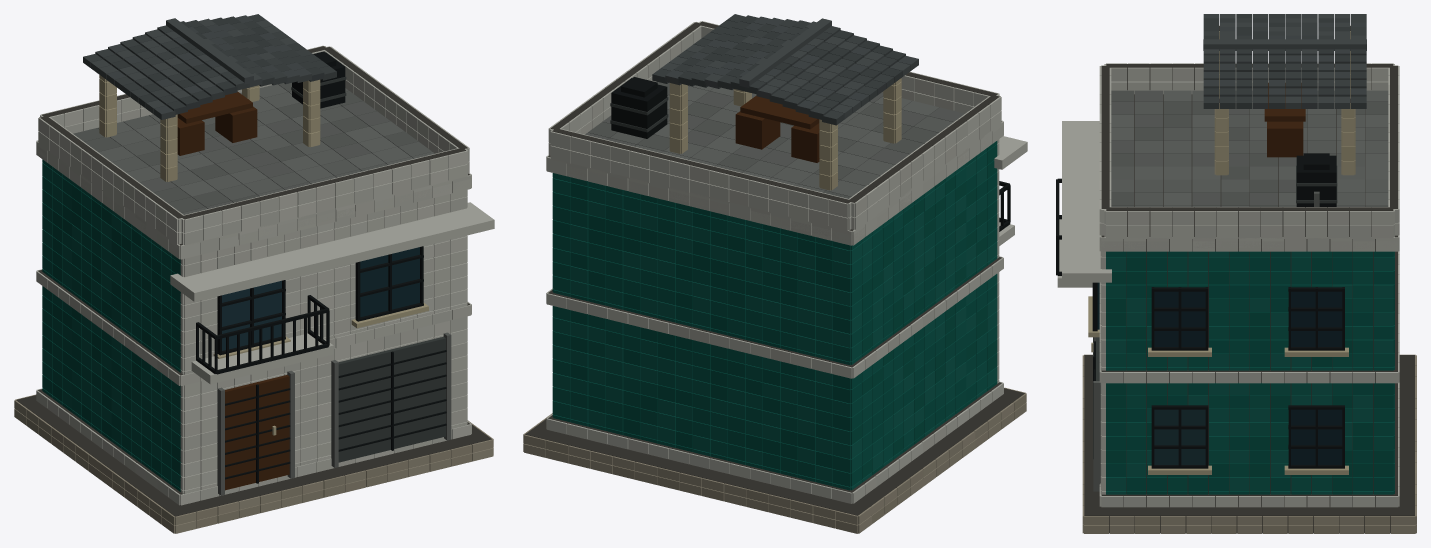
The model's file is SM_Mapa_045.fbx.
3 views of the same model, side by side, from view 1: azimuth 30°, elevation 25°; view 2: azimuth 150°, elevation 25°; view 3: azimuth 270°, elevation 25° (orthographic). The views are drawn at different scales.
Visible parts, largest first — view 1: SM_Mapa_045; view 2: SM_Mapa_045; view 3: SM_Mapa_045.
Part boxes in pixels (bbox=[...]): SM_Mapa_045: bbox=[14, 14, 494, 533]; SM_Mapa_045: bbox=[523, 14, 1027, 533]; SM_Mapa_045: bbox=[1056, 14, 1416, 533].
Size of the model in its own units: 8 by 7.53 by 9.15.
